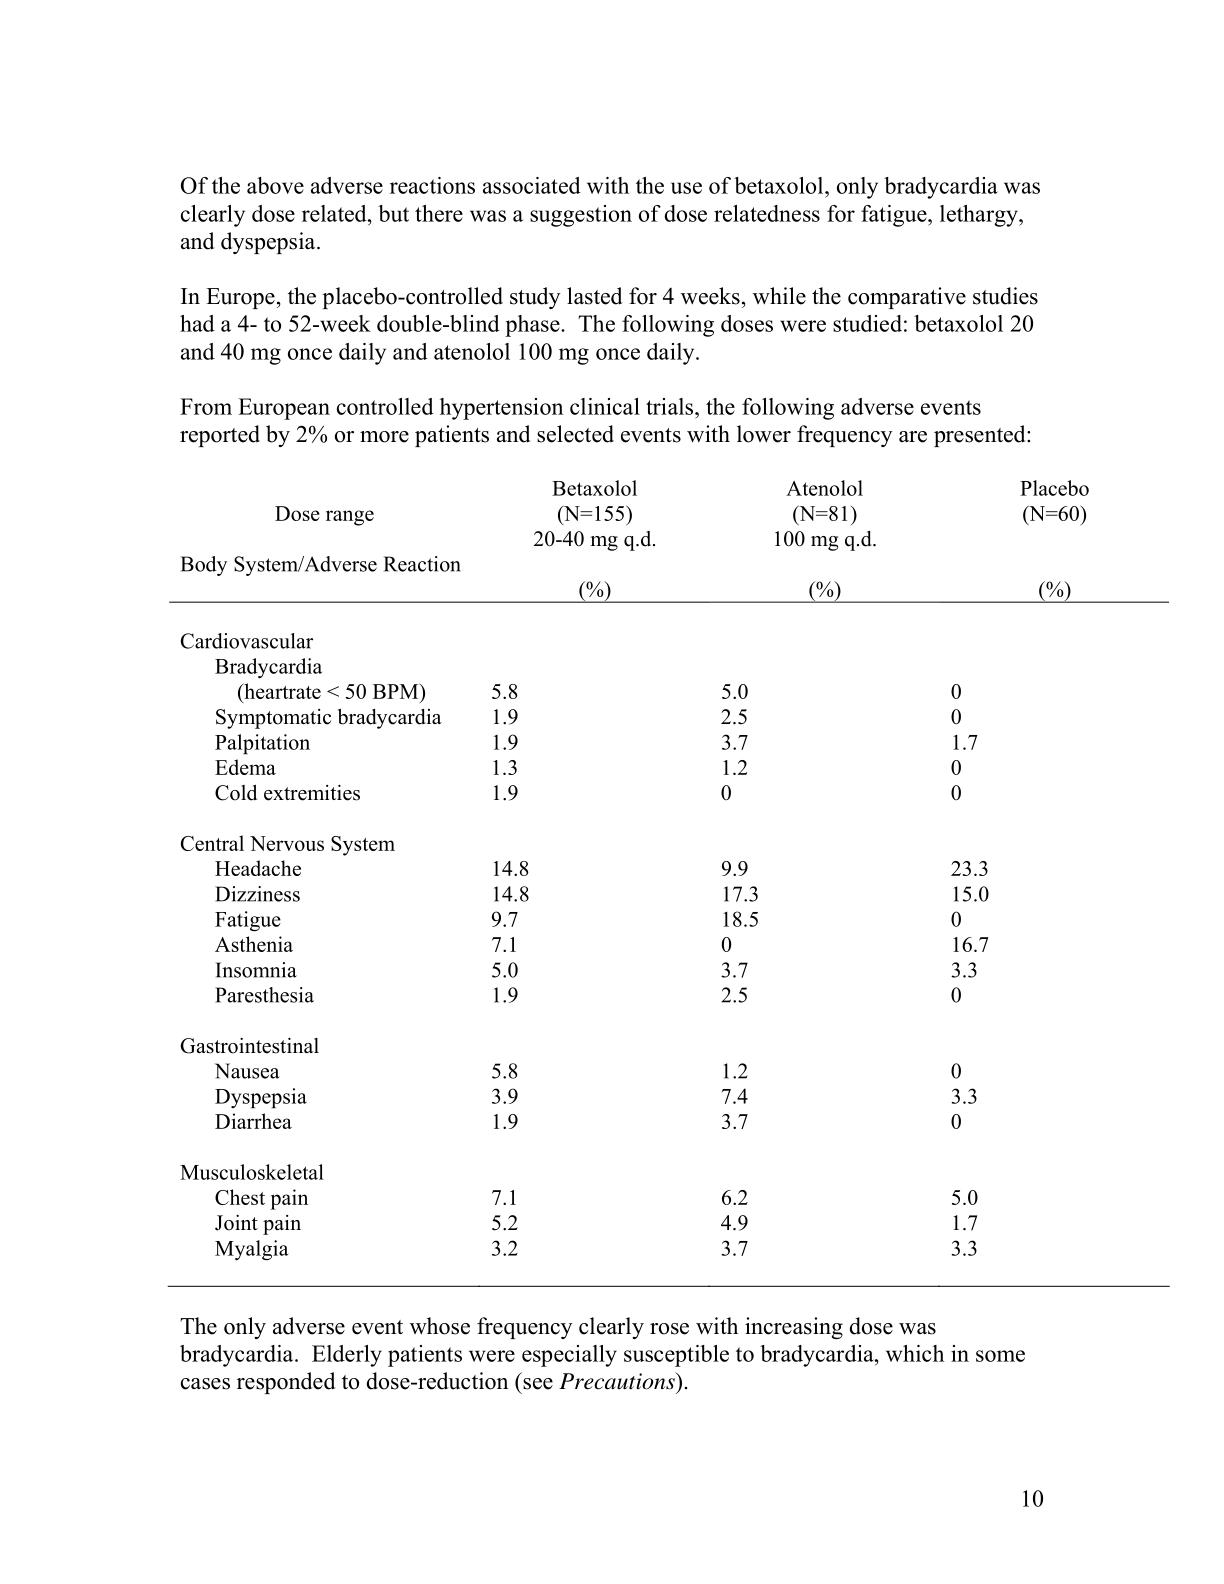partial_lined: (166, 472, 1176, 1288)
